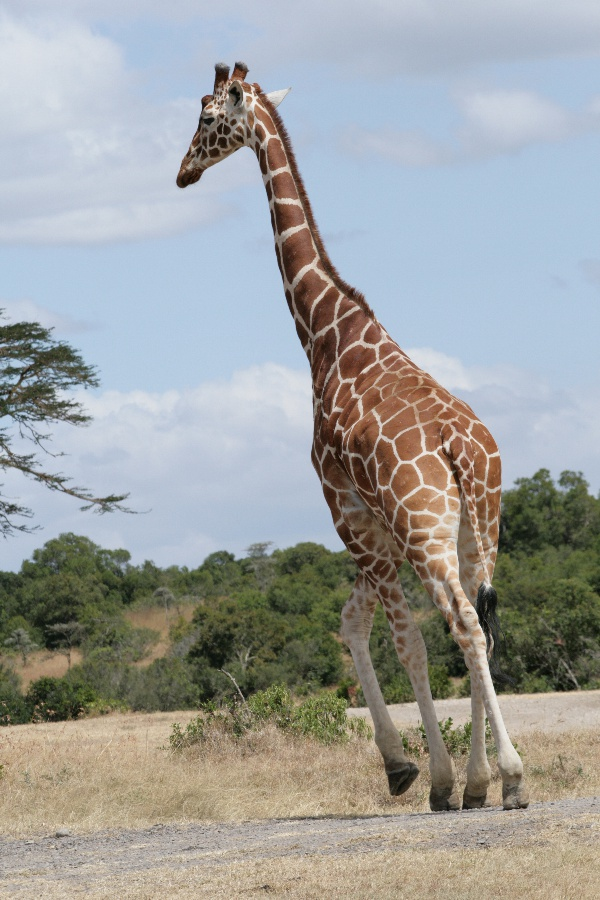giraffe: (170, 46, 538, 825)
